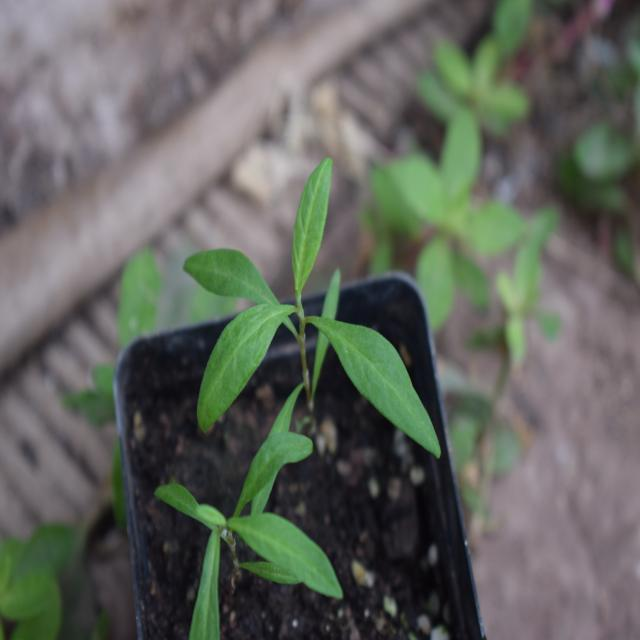white_smart_weed: (175, 170, 485, 520)
